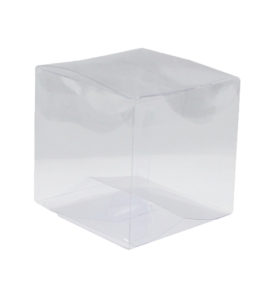PlasticBox: (30, 46, 244, 251)
